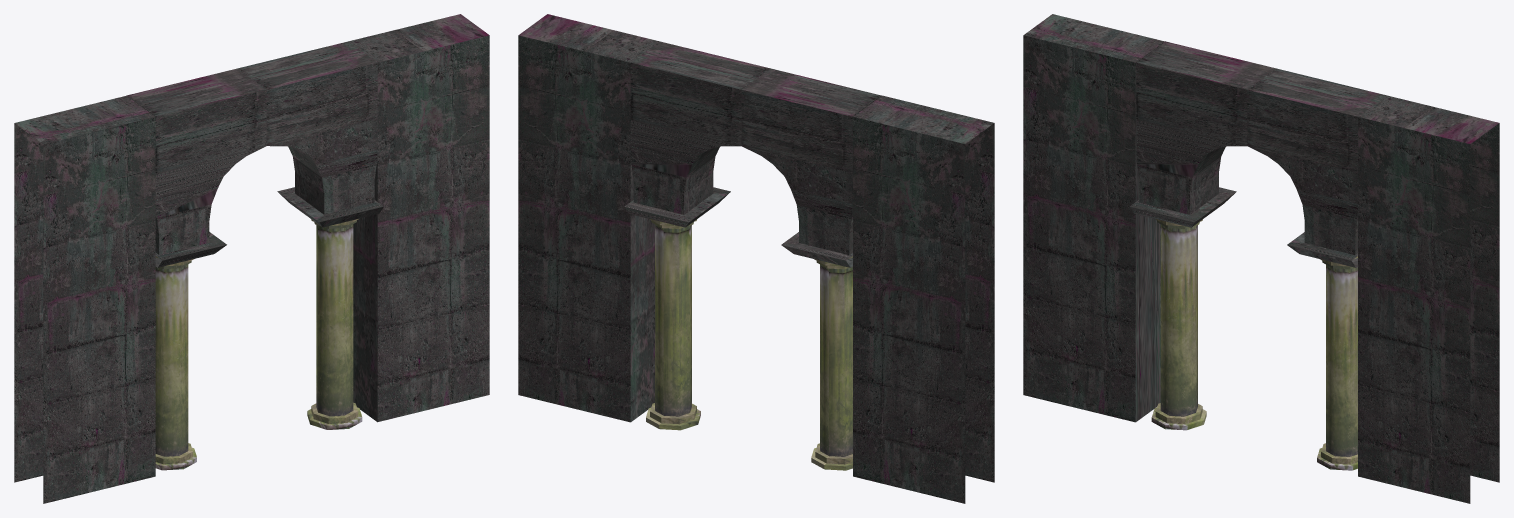
File: Archways.FBX
3 views of the same model, side by side, from view 1: azimuth 30°, elevation 25°; view 2: azimuth 150°, elevation 25°; view 3: azimuth 330°, elevation 25° (orthographic).
Parts seen in each view (by area): view 1: Box001, Box002, Connecting Arch, Pillars; view 2: Box001, Box002, Connecting Arch, Pillars; view 3: Box002, Box001, Connecting Arch, Pillars.
Boxes of the visible parts, x1,y1,x2,y2 form: Box001: (14,95,155,503); Box002: (349,14,489,422); Connecting Arch: (126,41,383,267); Pillars: (155,219,362,470); Box001: (853,95,994,503); Box002: (518,14,659,422); Connecting Arch: (624,41,881,267); Pillars: (646,219,852,470); Box002: (1358,95,1499,503); Box001: (1023,14,1164,422); Connecting Arch: (1130,41,1386,267); Pillars: (1151,218,1357,470).
Size of the model in its own units: 103 by 78.87 by 16.79.
